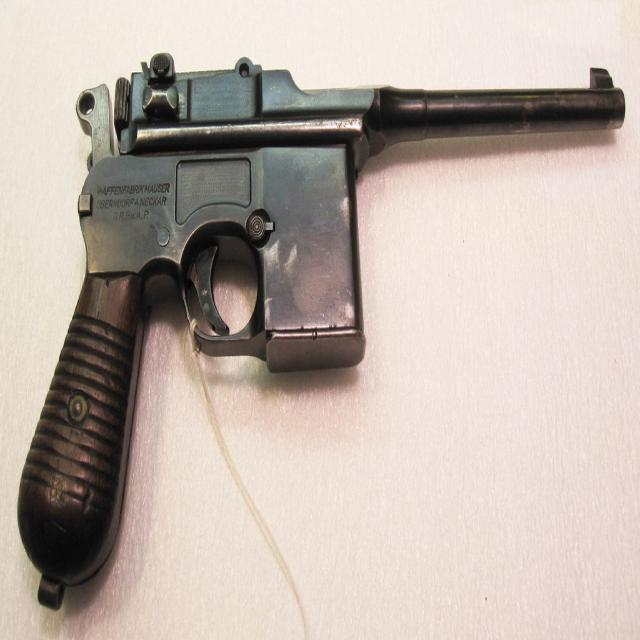Gun: (17, 54, 627, 612), (20, 55, 626, 609)
